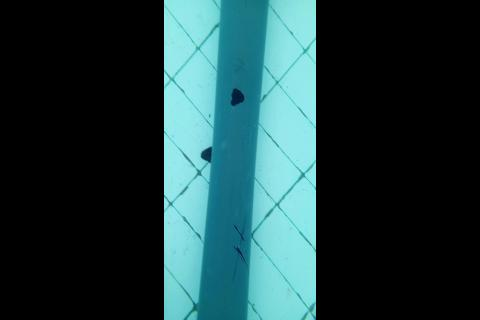kebocoran: (230, 87, 245, 106)
keretakan: (233, 219, 248, 279)
